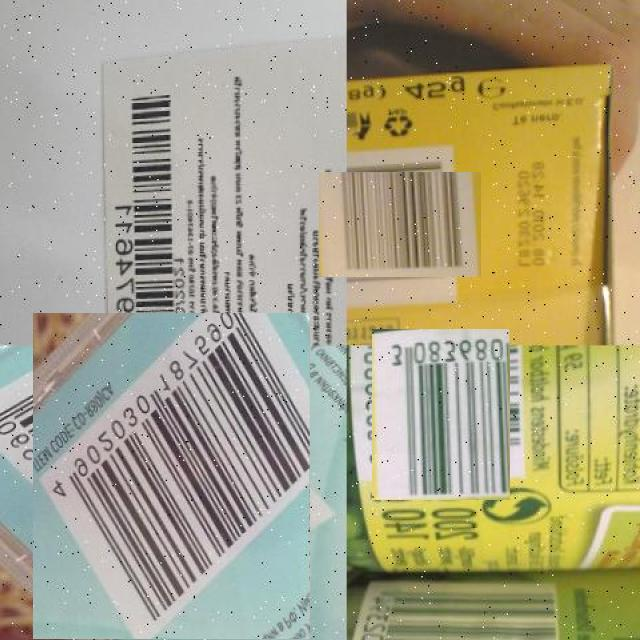Barcode: (16, 329, 326, 638), (363, 337, 518, 491), (112, 74, 183, 346), (333, 157, 467, 291)
